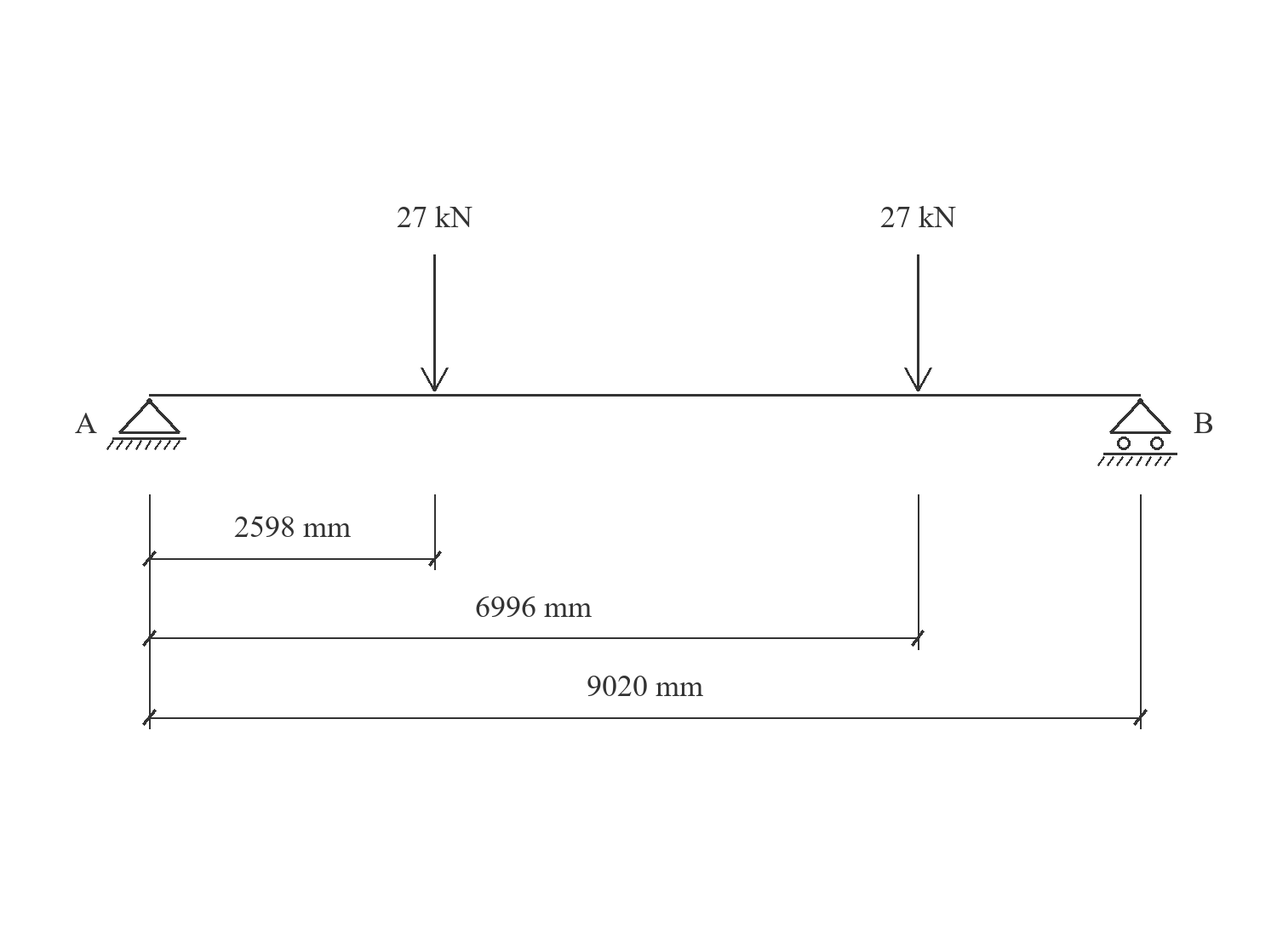pin_support: (106, 398, 186, 450)
point_load: (421, 254, 449, 391), (904, 254, 932, 391)
roller_support: (1097, 398, 1177, 466)
